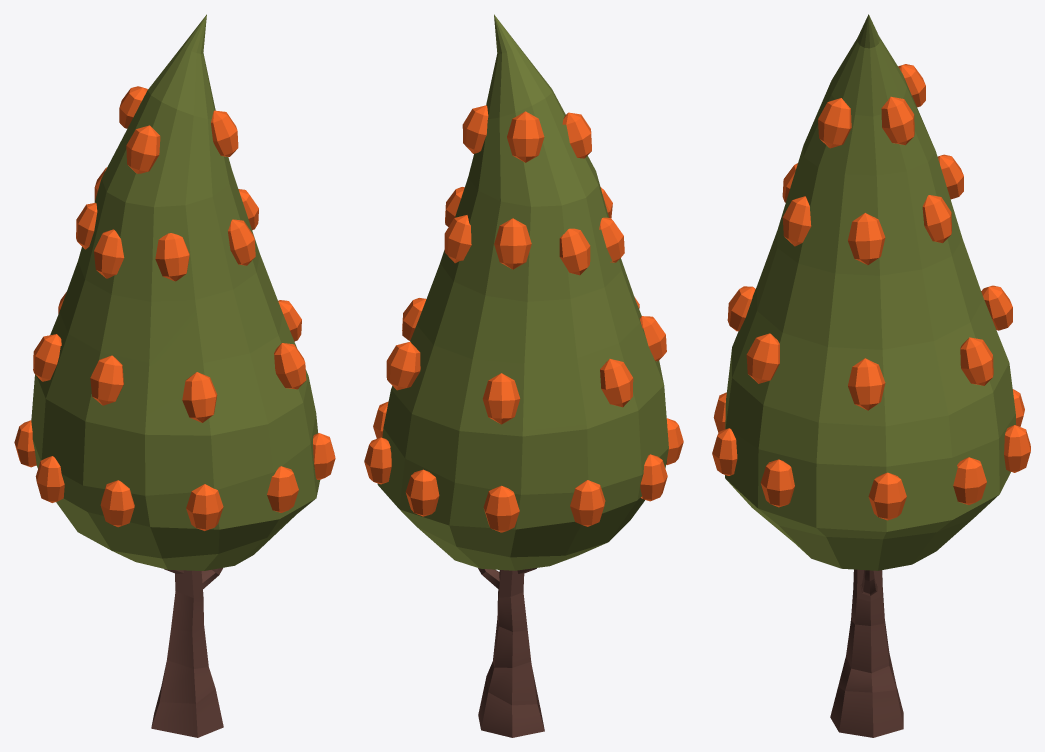
File: tree_17.FBX
3 renders of one model, left to right at view 1: azimuth 30°, elevation 25°; view 2: azimuth 150°, elevation 25°; view 3: azimuth 270°, elevation 25°, orthographic. The views are drawn at different scales.
Visible parts, largest first — view 1: mango_tree; view 2: mango_tree; view 3: mango_tree.
Boxes of the visible parts, <box> form: mango_tree: <box>14,14,335,737</box>; mango_tree: <box>364,14,683,737</box>; mango_tree: <box>712,14,1030,737</box>.
Size of the model in its own units: 3.34 by 8.02 by 3.23.
Materials: 1 (1 with a texture image).
